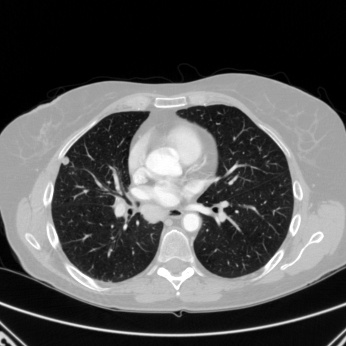PN: (61, 157, 69, 165)
